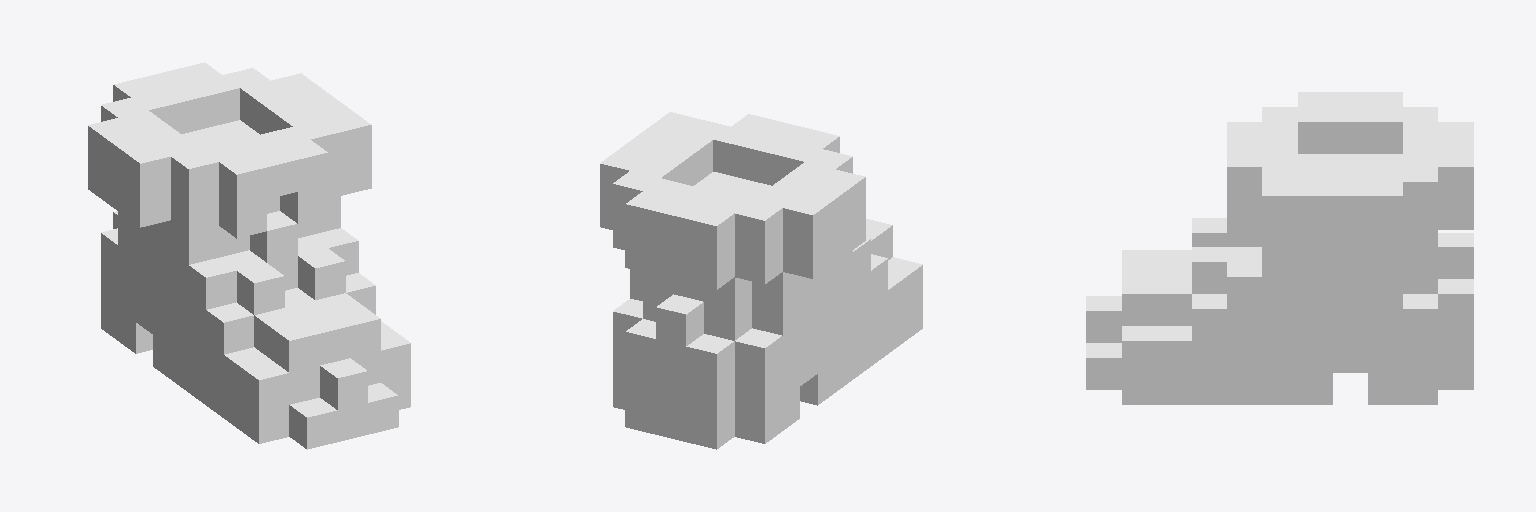
File: kotUnityVersion-6.obj
The picture shows the model from 3 angles: view 1: azimuth 30°, elevation 25°; view 2: azimuth 150°, elevation 25°; view 3: azimuth 270°, elevation 25°; orthographic projection.
Visible parts, largest first — view 1: object 1; view 2: object 1; view 3: object 1.
Boxes of the visible parts, x1=… form: object 1: x1=88, y1=62, x2=410, y2=449; object 1: x1=600, y1=112, x2=922, y2=449; object 1: x1=1086, y1=92, x2=1473, y2=404.
Bounding box in the file's own units: 0.7 × 0.7 × 1.1.